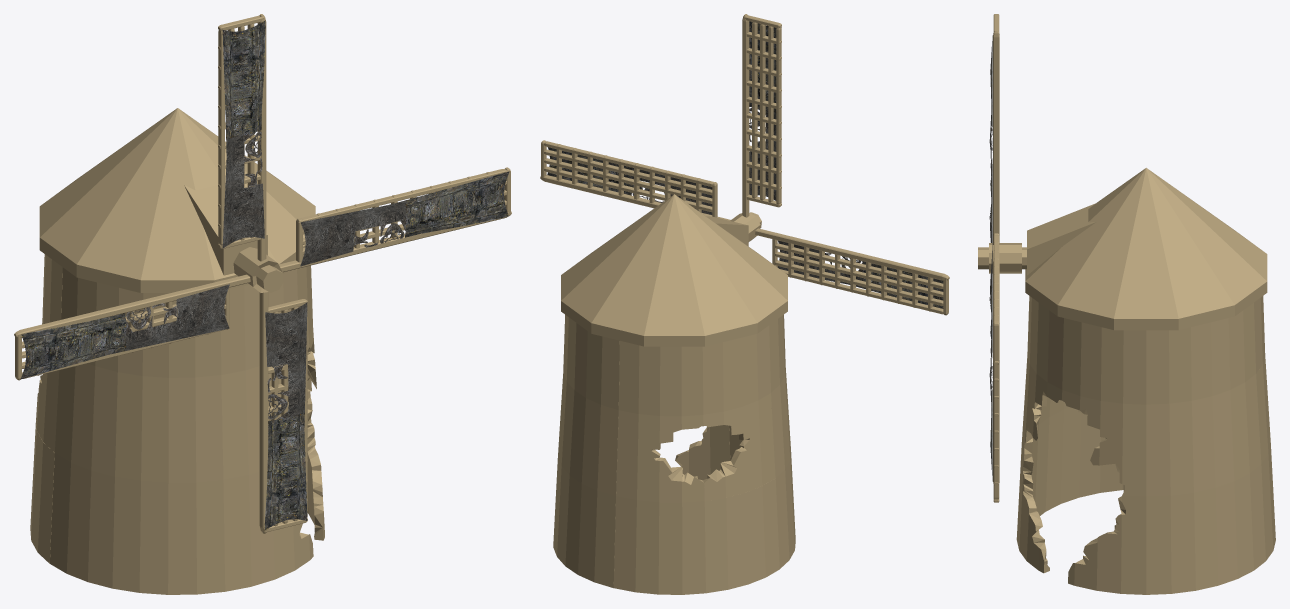
Rendered from windmill.FBX.
3 views of the same model, side by side, from view 1: azimuth 30°, elevation 25°; view 2: azimuth 150°, elevation 25°; view 3: azimuth 270°, elevation 25° (orthographic). The views are drawn at different scales.
Visible parts, largest first — view 1: Object2217, Object2230; view 2: Object2217, Object2230; view 3: Object2217, Object2230.
Boxes of the visible parts, <box> form: Object2217: <box>14,14,511,594</box>; Object2230: <box>20,20,509,530</box>; Object2217: <box>540,14,949,594</box>; Object2230: <box>547,21,943,308</box>; Object2217: <box>978,14,1275,594</box>; Object2230: <box>989,35,992,481</box>.
Size of the model in its own units: 2472 by 2768 by 1468.
